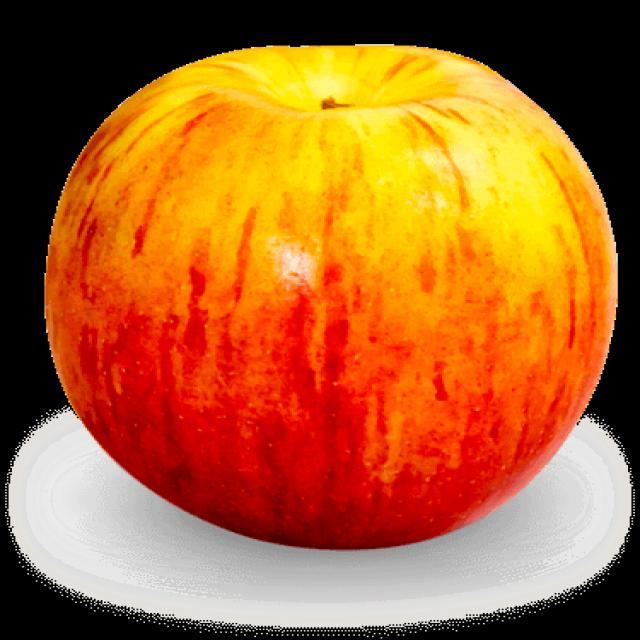APPLE: (47, 42, 625, 546)
